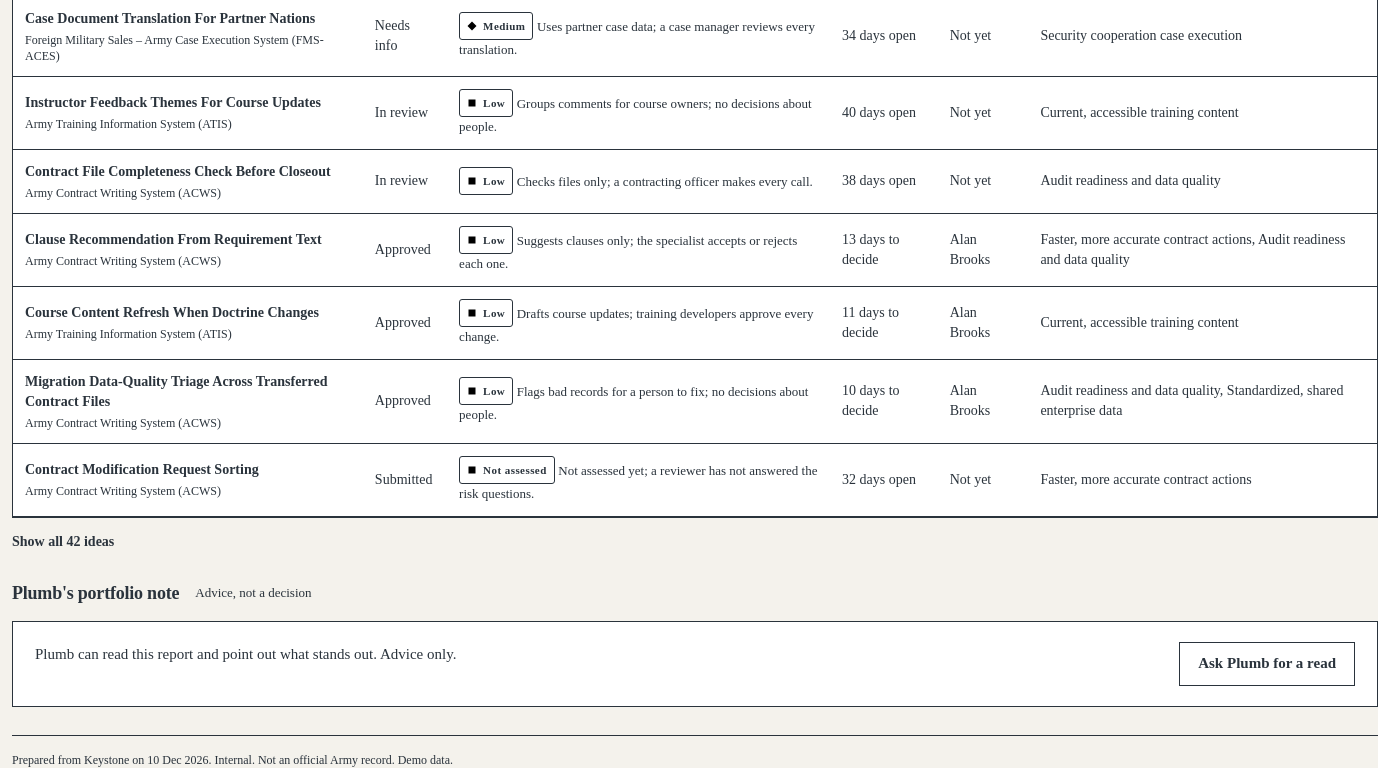
it: Plumb's read on /report is written on a button press › a call that throws is the same not-available state, never an error on screen
(page scrolled)
Click the button "Ask Plumb for a read". click: point(1267, 664)
box: [1179,642,1355,686]
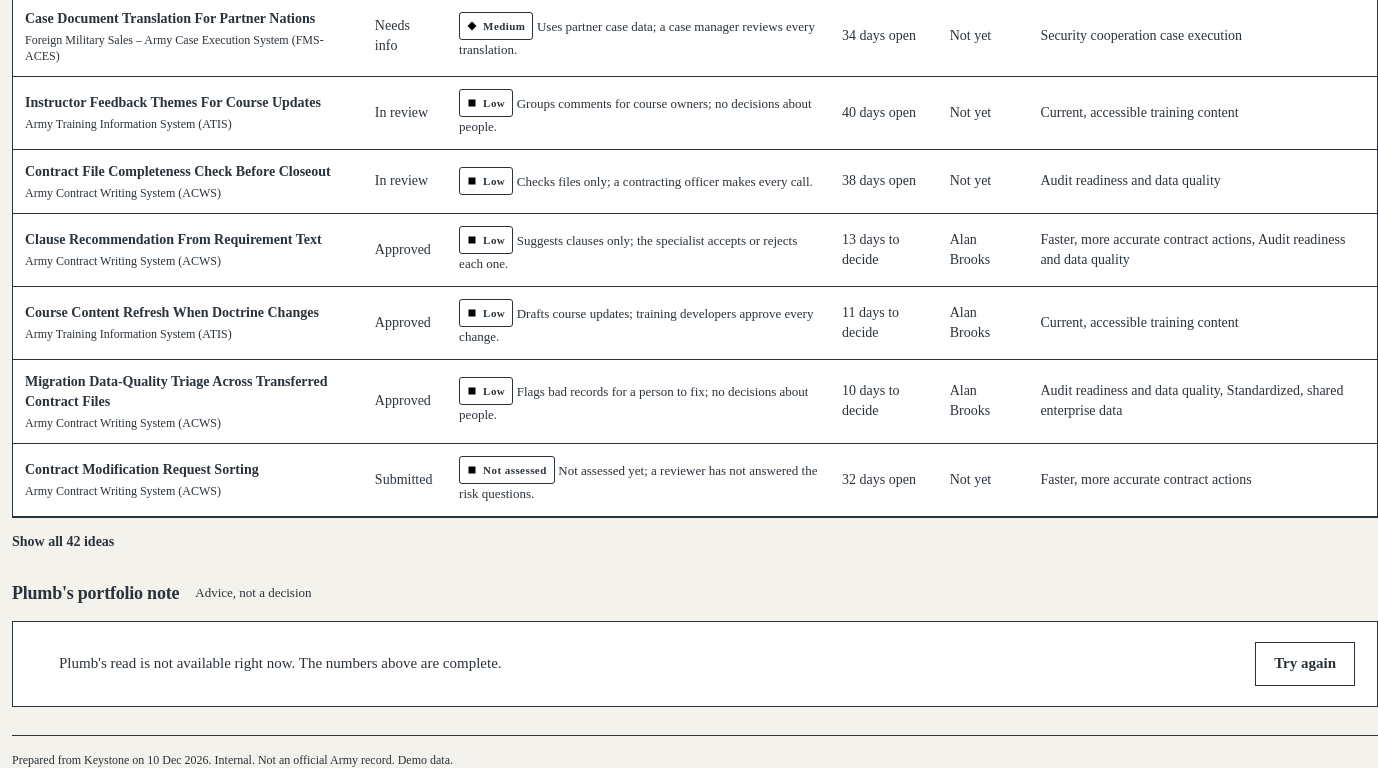
Now the element named "Plumb" shows "Plumb's read is not available right now.", box [59,655,502,671]
